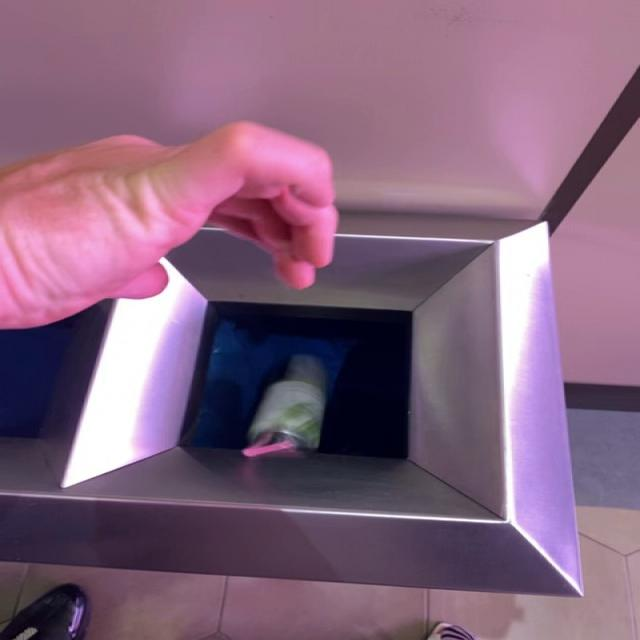bin: (1, 216, 573, 592)
metal: (243, 355, 328, 458)
